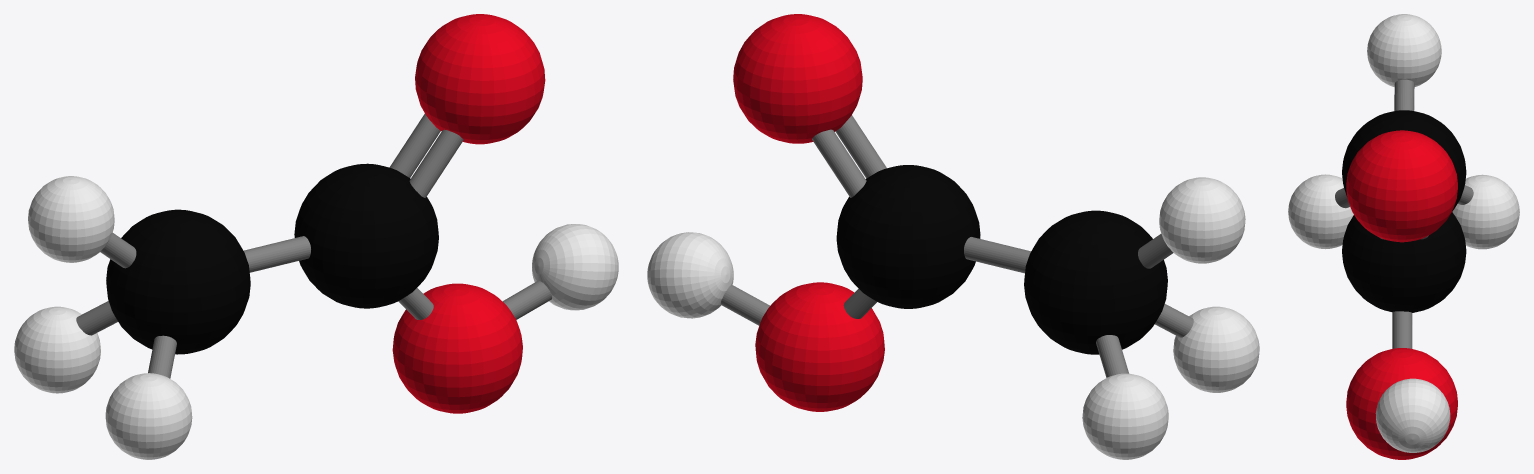
File: CH3COOH.glb
3 renders of one model, left to right at view 1: azimuth 30°, elevation 25°; view 2: azimuth 150°, elevation 25°; view 3: azimuth 270°, elevation 25°, orthographic. The views are drawn at different scales.
Parts seen in each view (by area): view 1: углерод 1, Sphere, кислород двойной.001, кислород двойной.002, Sphere.003, Sphere.001, Sphere.004, Sphere.002, Cylinder.006, Cylinder.002, Cylinder.001, Cylinder.008 (+4 smaller); view 2: углерод 1, Sphere, кислород двойной.001, кислород двойной.002, Sphere.003, Sphere.002, Sphere.004, Sphere.001, Cylinder.001, Cylinder.002, Cylinder.006, Cylinder.008 (+4 smaller); view 3: кислород двойной.001, углерод 1, кислород двойной.002, Sphere.004, Sphere.003, Sphere.002, Sphere.001, Sphere, Cylinder.007, Cylinder.005.
Boxes of the visible parts, x1,y1,x2,y2 form: углерод 1: [294, 163, 438, 308]; Sphere: [106, 209, 250, 354]; кислород двойной.001: [415, 14, 545, 144]; кислород двойной.002: [392, 283, 522, 413]; Sphere.003: [28, 176, 114, 262]; Sphere.001: [105, 373, 192, 459]; Sphere.004: [532, 224, 618, 310]; Sphere.002: [14, 306, 100, 393]; Cylinder.006: [409, 129, 463, 197]; Cylinder.002: [243, 236, 310, 272]; Cylinder.001: [389, 114, 440, 177]; Cylinder.008: [502, 281, 551, 319]; углерод 1: [836, 165, 980, 308]; Sphere: [1024, 210, 1167, 354]; кислород двойной.001: [733, 14, 862, 143]; кислород двойной.002: [755, 282, 884, 411]; Sphere.003: [1159, 177, 1245, 263]; Sphere.002: [1082, 373, 1168, 459]; Sphere.004: [647, 232, 733, 318]; Sphere.001: [1173, 306, 1259, 392]; Cylinder.001: [812, 129, 866, 197]; Cylinder.002: [964, 237, 1030, 273]; Cylinder.006: [835, 115, 886, 178]; Cylinder.008: [720, 284, 769, 325]; кислород двойной.001: [1346, 130, 1457, 242]; углерод 1: [1342, 212, 1466, 312]; кислород двойной.002: [1346, 348, 1457, 459]; Sphere.004: [1375, 378, 1450, 452]; Sphere.003: [1367, 14, 1441, 86]; Sphere.002: [1452, 174, 1519, 249]; Sphere.001: [1288, 174, 1353, 249]; Sphere: [1342, 110, 1466, 211]; Cylinder.007: [1392, 311, 1412, 348]; Cylinder.005: [1394, 79, 1414, 110].
Size of the model in its own units: 4.66 by 2.91 by 1.86.
